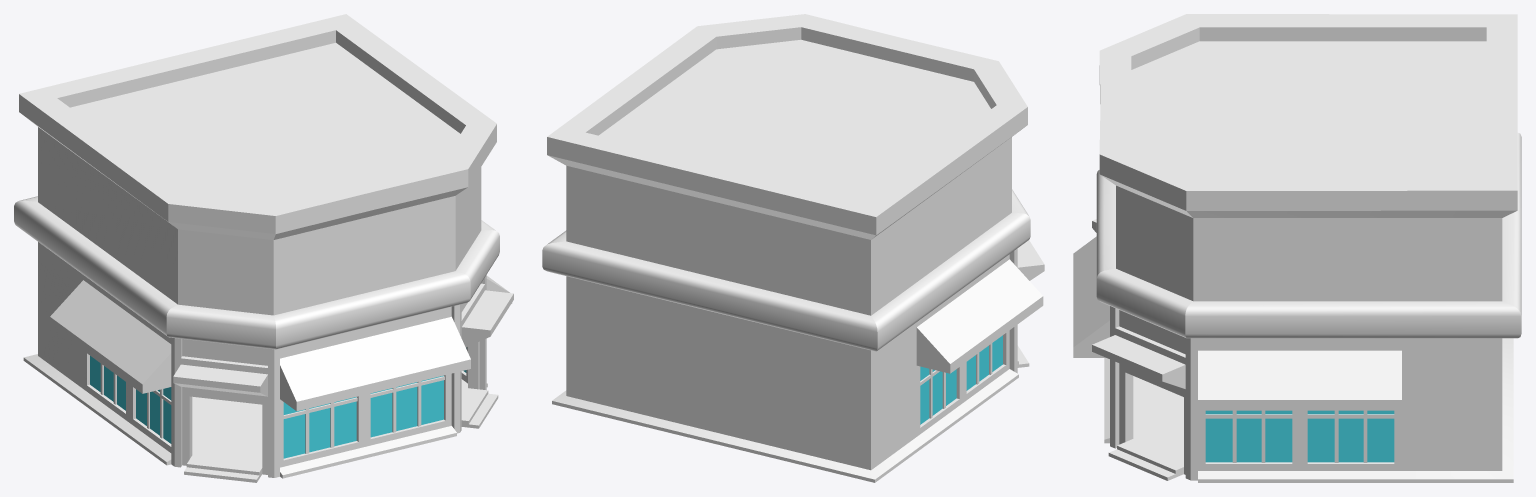
File: prop-b1.glb
3 renders of one model, left to right at view 1: azimuth 30°, elevation 25°; view 2: azimuth 150°, elevation 25°; view 3: azimuth 270°, elevation 25°, orthographic. The views are drawn at different scales.
Visible parts, largest first — view 1: SM_Buildings_Commercial_07; view 2: SM_Buildings_Commercial_07; view 3: SM_Buildings_Commercial_07.
Boxes of the visible parts, bbox=[...] form: SM_Buildings_Commercial_07: bbox=[14, 14, 513, 482]; SM_Buildings_Commercial_07: bbox=[542, 14, 1044, 482]; SM_Buildings_Commercial_07: bbox=[1073, 14, 1521, 482].
Size of the model in its own units: 12.2 by 8.4 by 11.6.
Materials: 2 (1 with a texture image).
